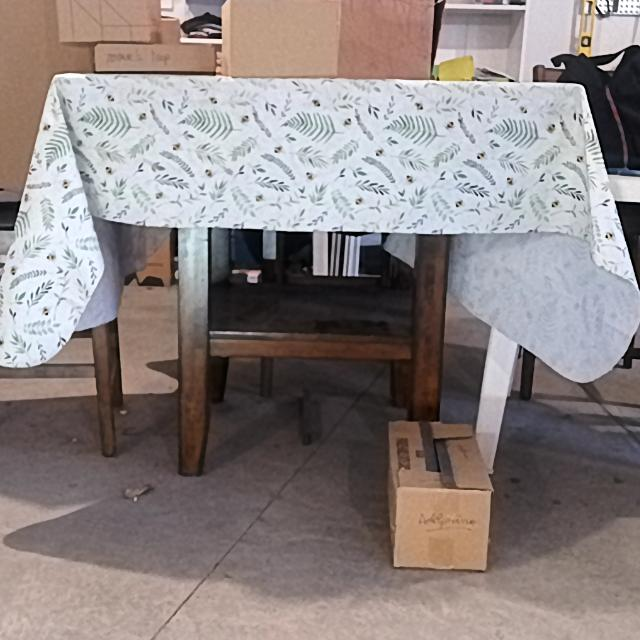box: (230, 0, 433, 79), (396, 486, 489, 570), (57, 0, 161, 43), (96, 44, 214, 72)
